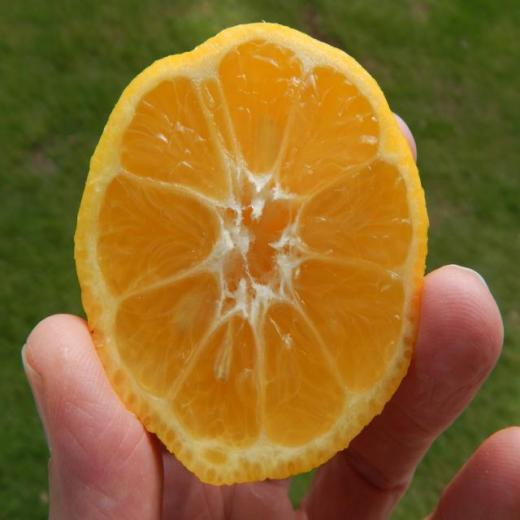Grape: (80, 30, 416, 484)
